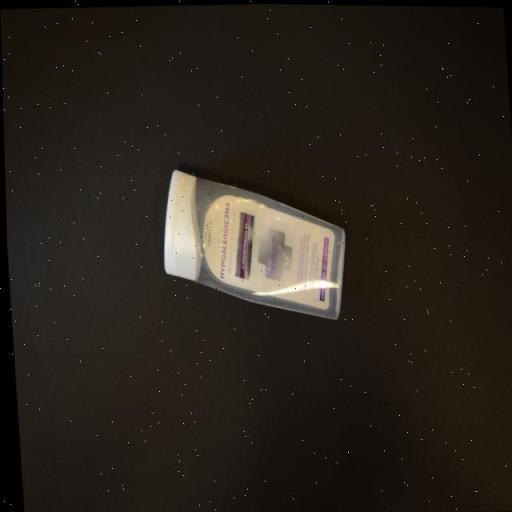plastic: (154, 160, 348, 326)
